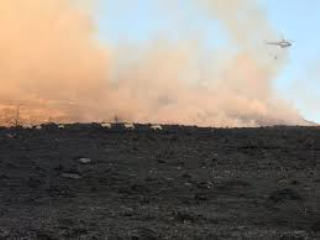smoke: (203, 59, 314, 129), (125, 45, 200, 129)
